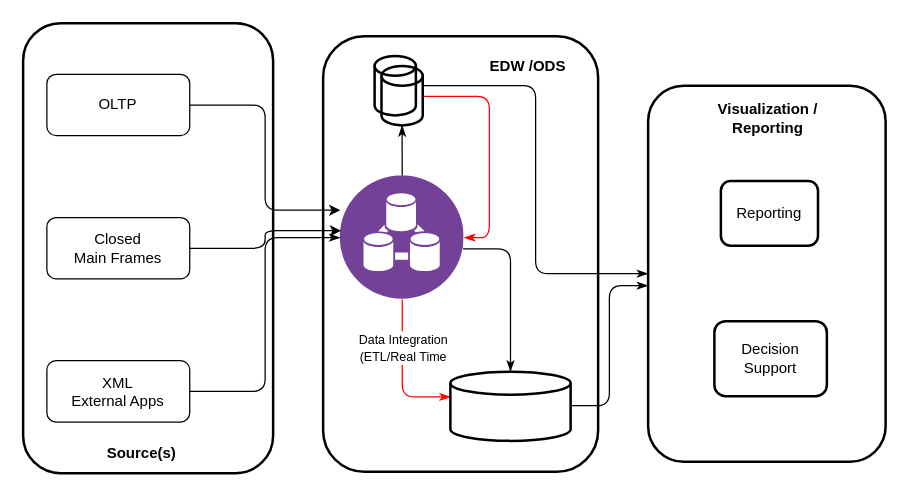
Image size: 908x495. Some labels were removed from this diagram. The shapes that lost their labels are listed below. From the top down, each one's centre as x and y in pixels, then its label:
the point at 401,95: ODS
the point at 509,406: Target System (eg: EDW)
